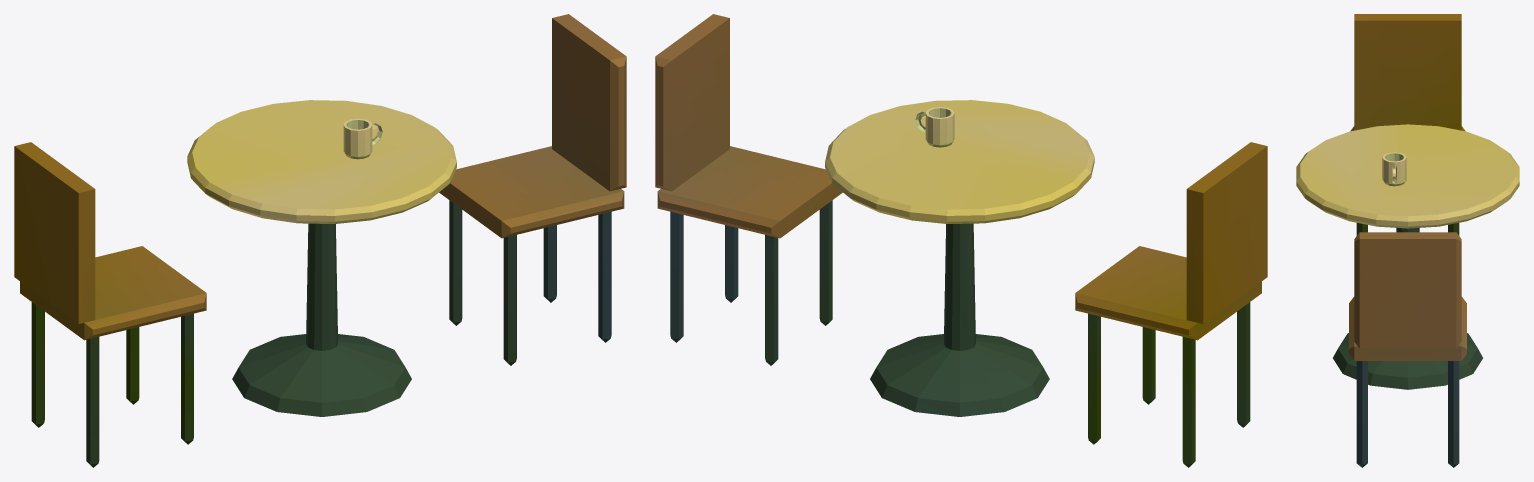
The model's file is GS_CafeTable.glb.
The picture shows the model from 3 angles, left to right: view 1: azimuth 30°, elevation 25°; view 2: azimuth 150°, elevation 25°; view 3: azimuth 270°, elevation 25°; orthographic projection. The views are drawn at different scales.
Parts seen in each view (by area): view 1: GS_CafeTable; view 2: GS_CafeTable; view 3: GS_CafeTable.
Part boxes in pixels (bbox=[...]): GS_CafeTable: bbox=[14, 14, 626, 467]; GS_CafeTable: bbox=[655, 14, 1267, 467]; GS_CafeTable: bbox=[1296, 14, 1519, 467].
Bounding box in the file's own units: 1.98 × 0.972 × 0.8314.
